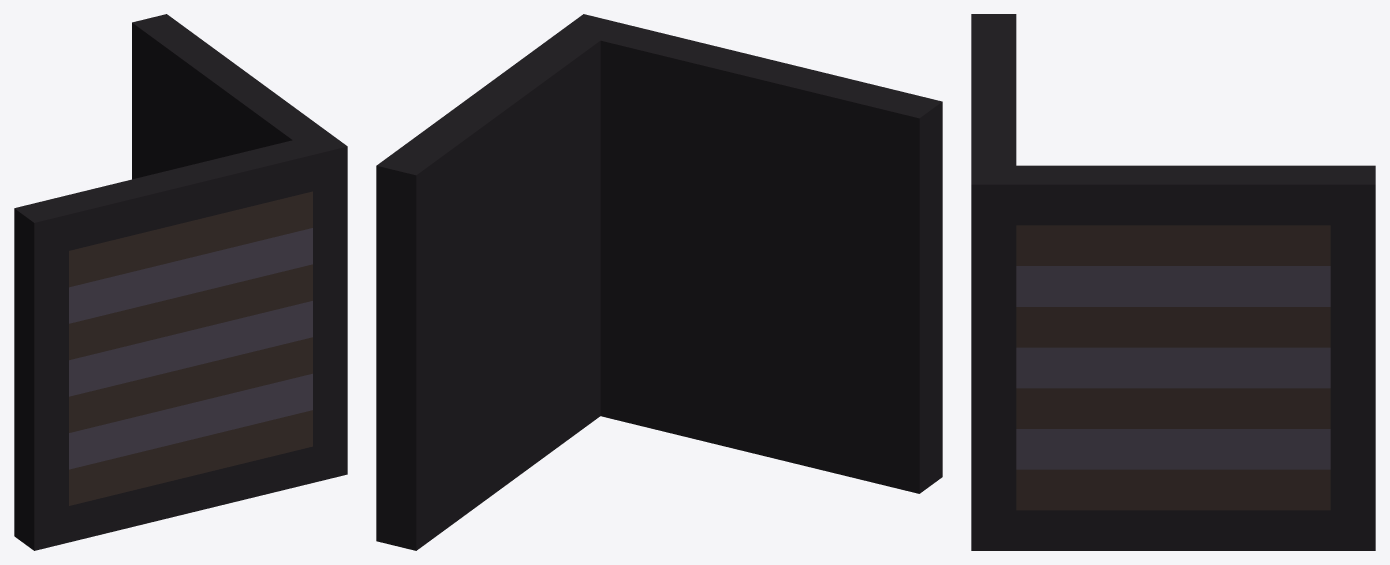
Rendered from shade_WrapLegR.glb.
3 views of the same model, side by side, from view 1: azimuth 30°, elevation 25°; view 2: azimuth 150°, elevation 25°; view 3: azimuth 270°, elevation 25° (orthographic). The views are drawn at different scales.
Visible parts, largest first — view 1: shade_WrapLegR; view 2: shade_WrapLegR; view 3: shade_WrapLegR.
Part boxes in pixels (box(x1,y1,x2,y2)): shade_WrapLegR: box(14, 14, 347, 550); shade_WrapLegR: box(376, 14, 942, 550); shade_WrapLegR: box(971, 14, 1375, 550).
Bounding box in the file's own units: 1.12 × 1.12 × 1.12.
1 material, 1 textured.
